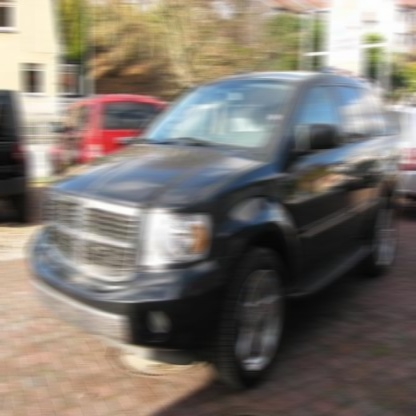Vehicle: (30, 67, 402, 390)
